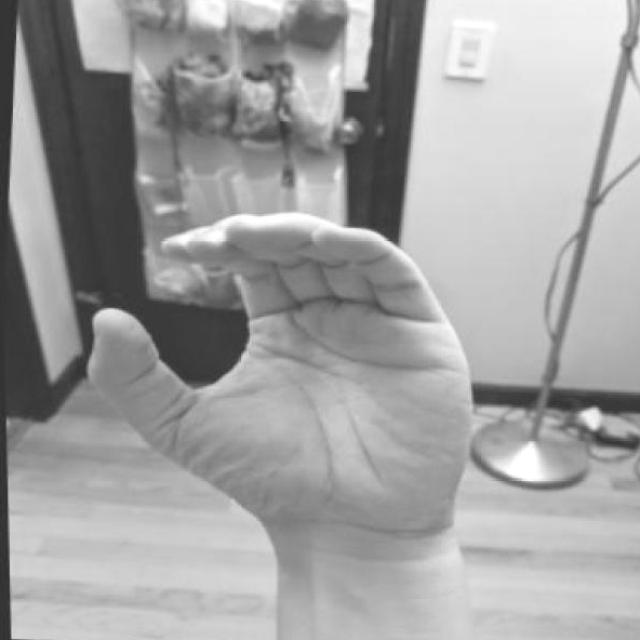C: (57, 201, 492, 558)
